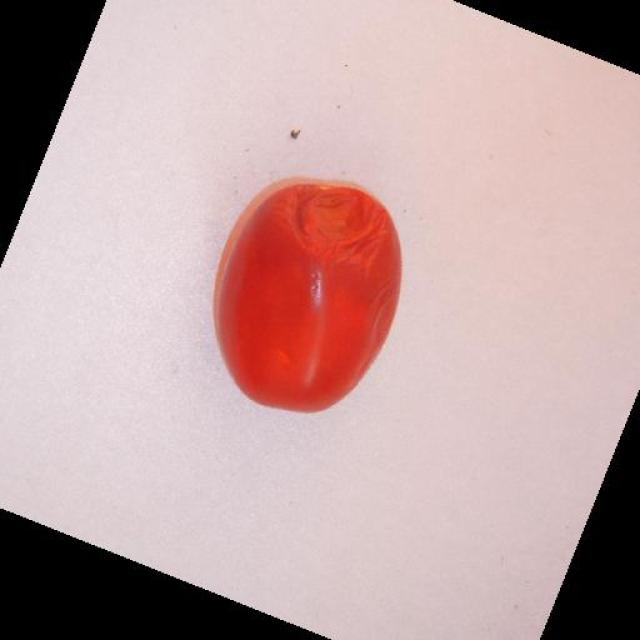Stale_tomato: (260, 176, 404, 282)
